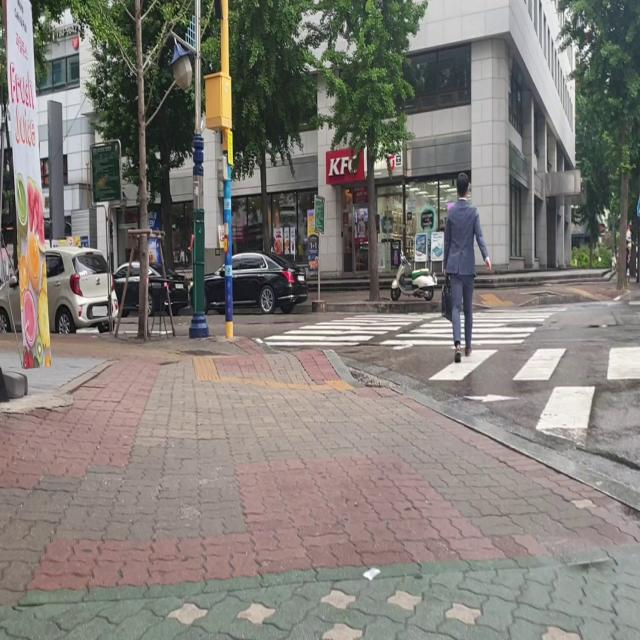횡단보도: (264, 306, 568, 352)
